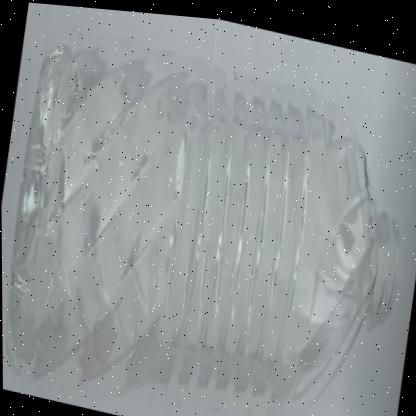open bottle: (265, 54, 416, 416)
